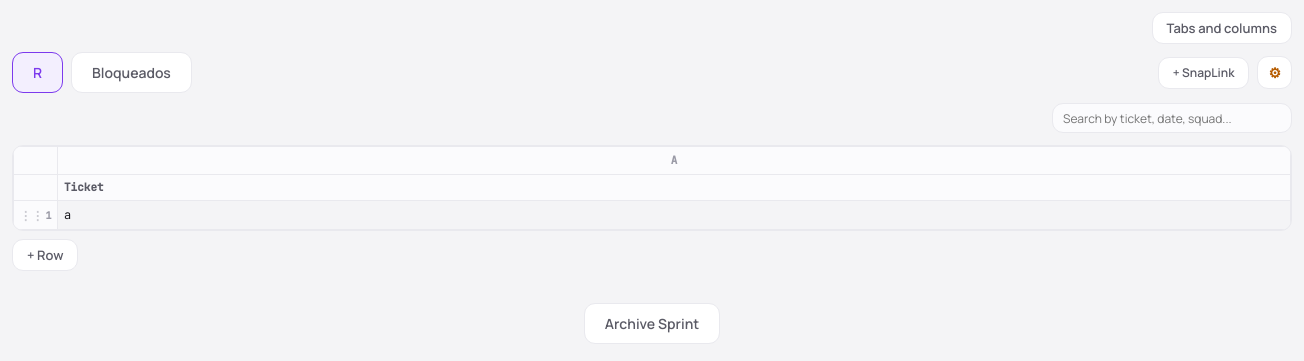
SprintDashboard con esquema › una pestana anadida es navegable
Click the button "Bloqueados". click: {"x": 131, "y": 72}
box: top-left (71, 52), bottom-right (192, 93)
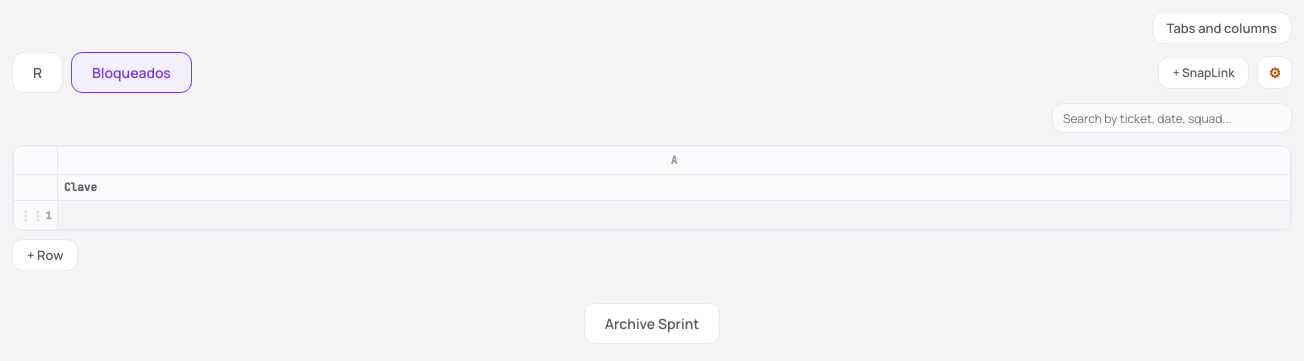
Now the column heading "Clave" is shown, box top-left (58, 174), bottom-right (1290, 200)
